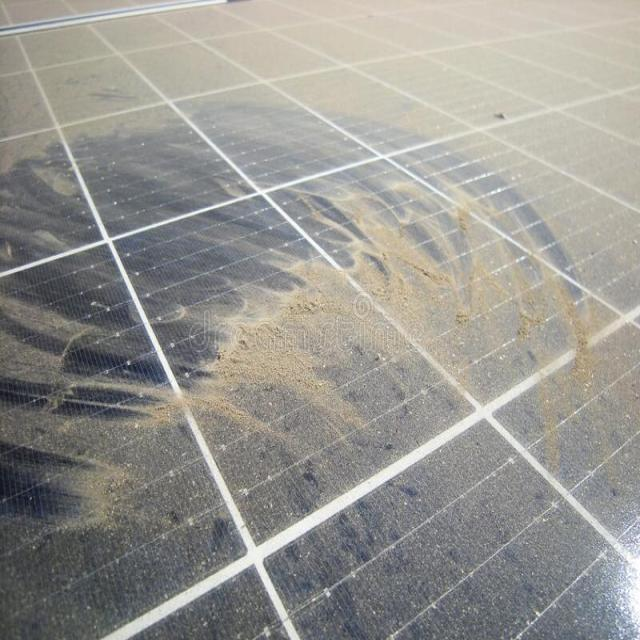Dusty: (0, 1, 639, 639)
